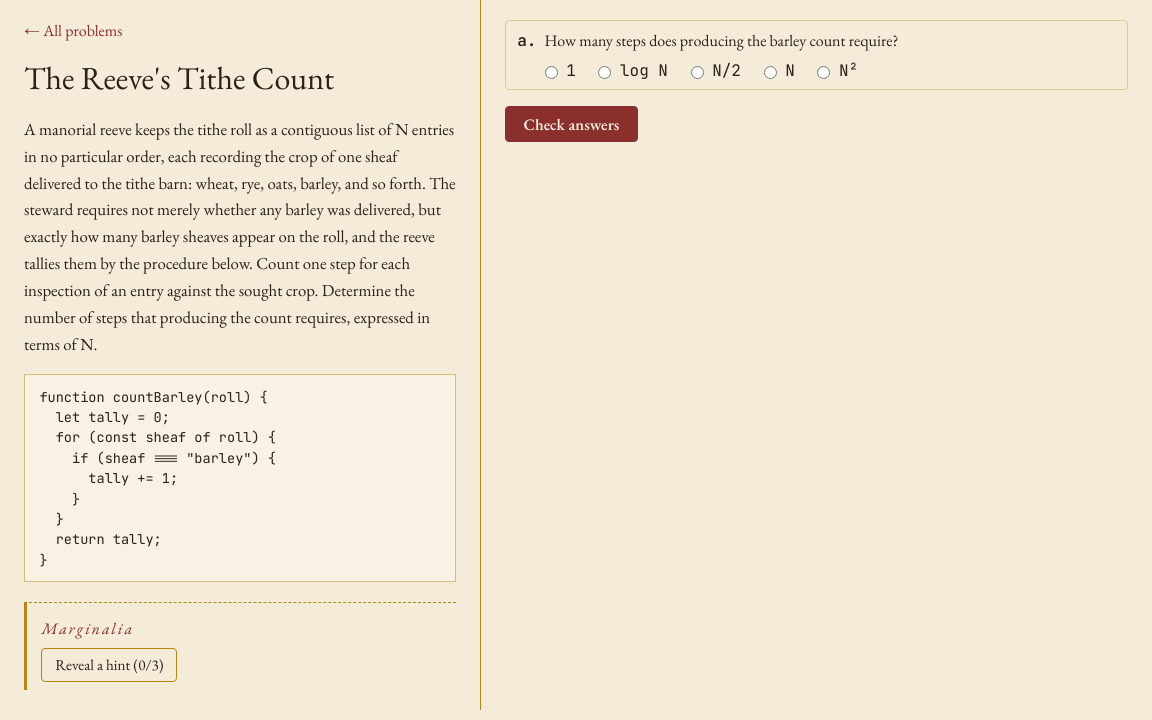
Test: AnalysisWorkspace › grades a multiple-choice part
Click the radio button labelled "N/2".
click(697, 72)  # box [691,66,704,79]
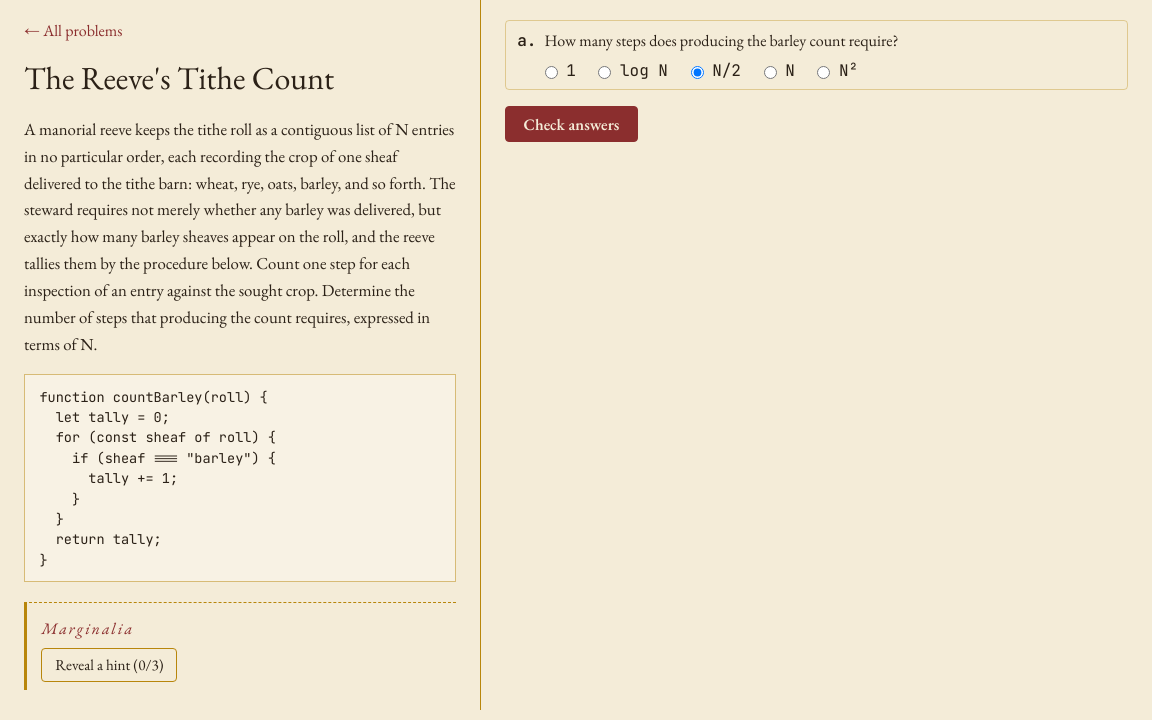
Click the button "Check answers".
click(572, 124)  # box [505,106,638,142]
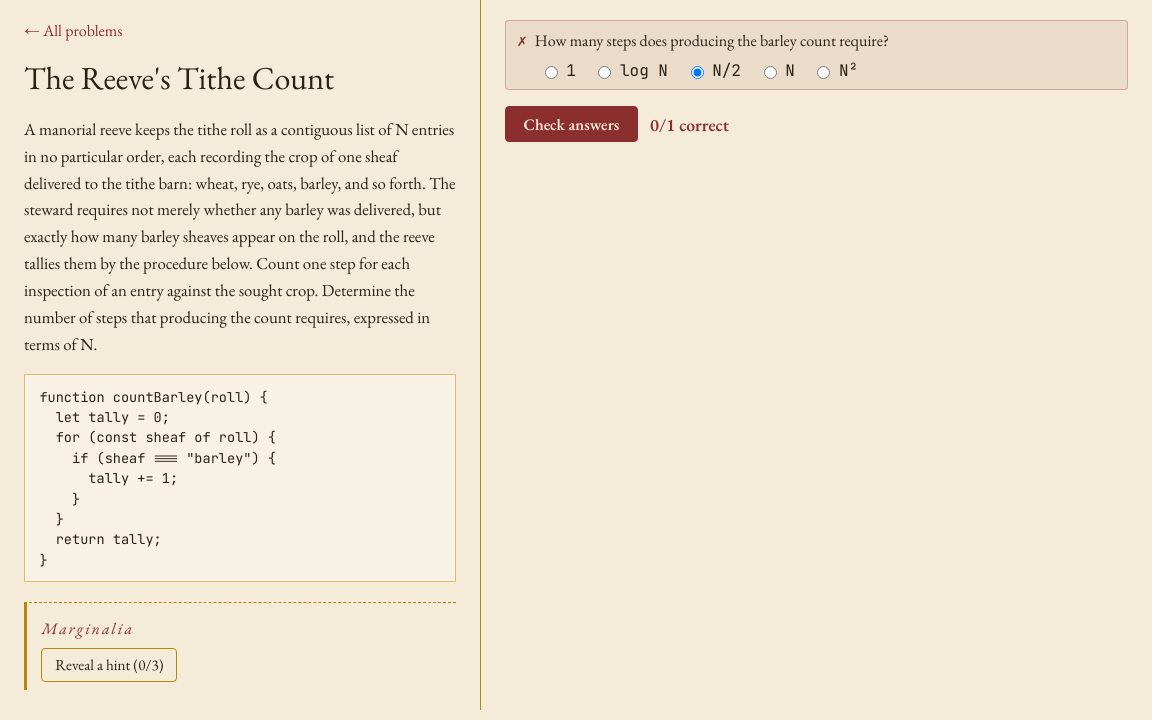
Check: the picture named "Incorrect" is shown, box [517,30,527,51]
Click the radio button labelled "N".
click(770, 72)  # box [764,66,777,79]
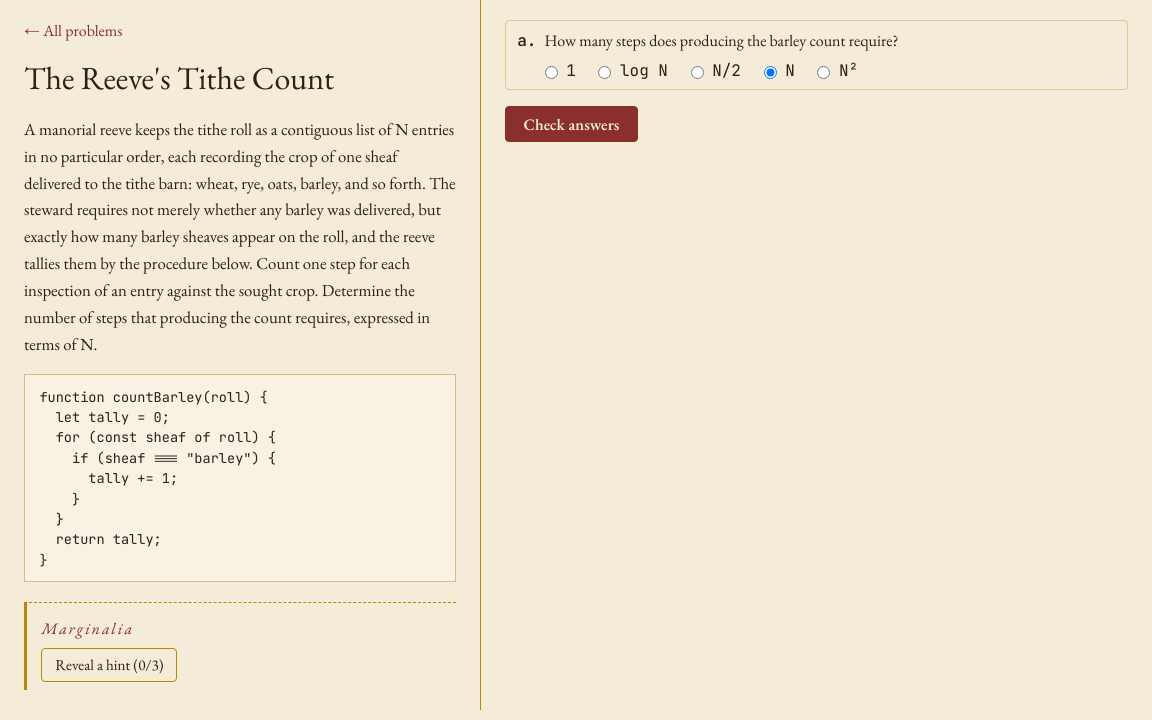
Click the button "Check answers".
click(572, 124)  # box [505,106,638,142]
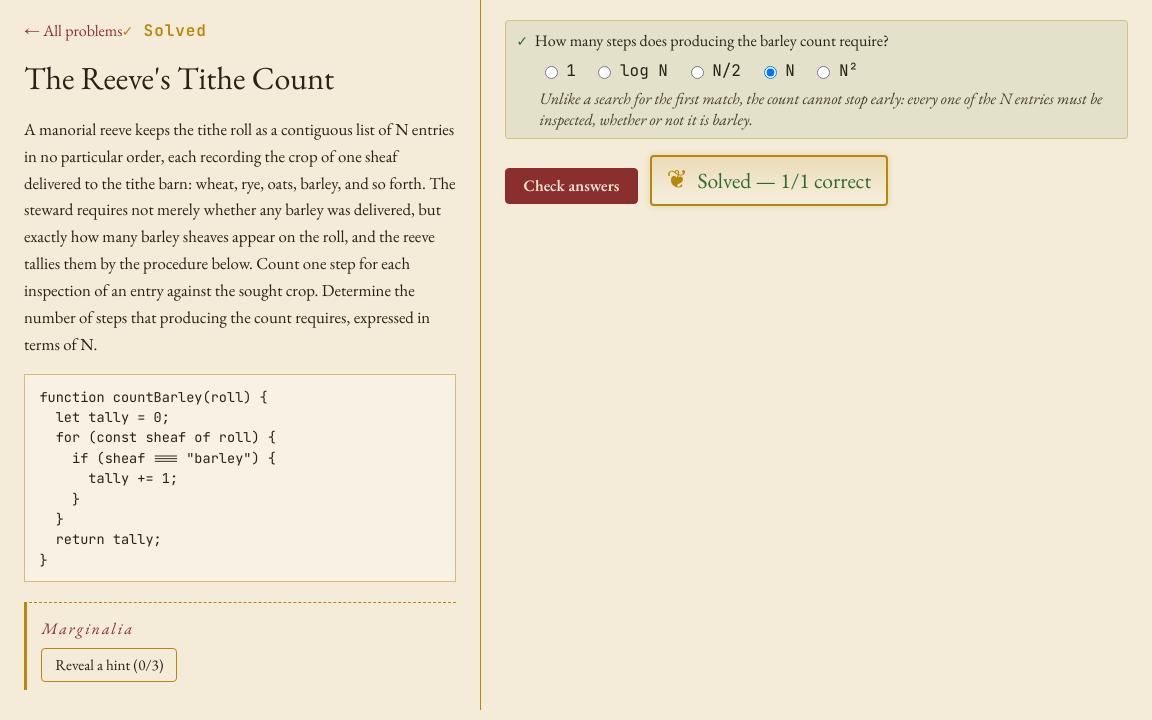
Check: the picture named "Correct" is shown, box [517,30,527,51]
